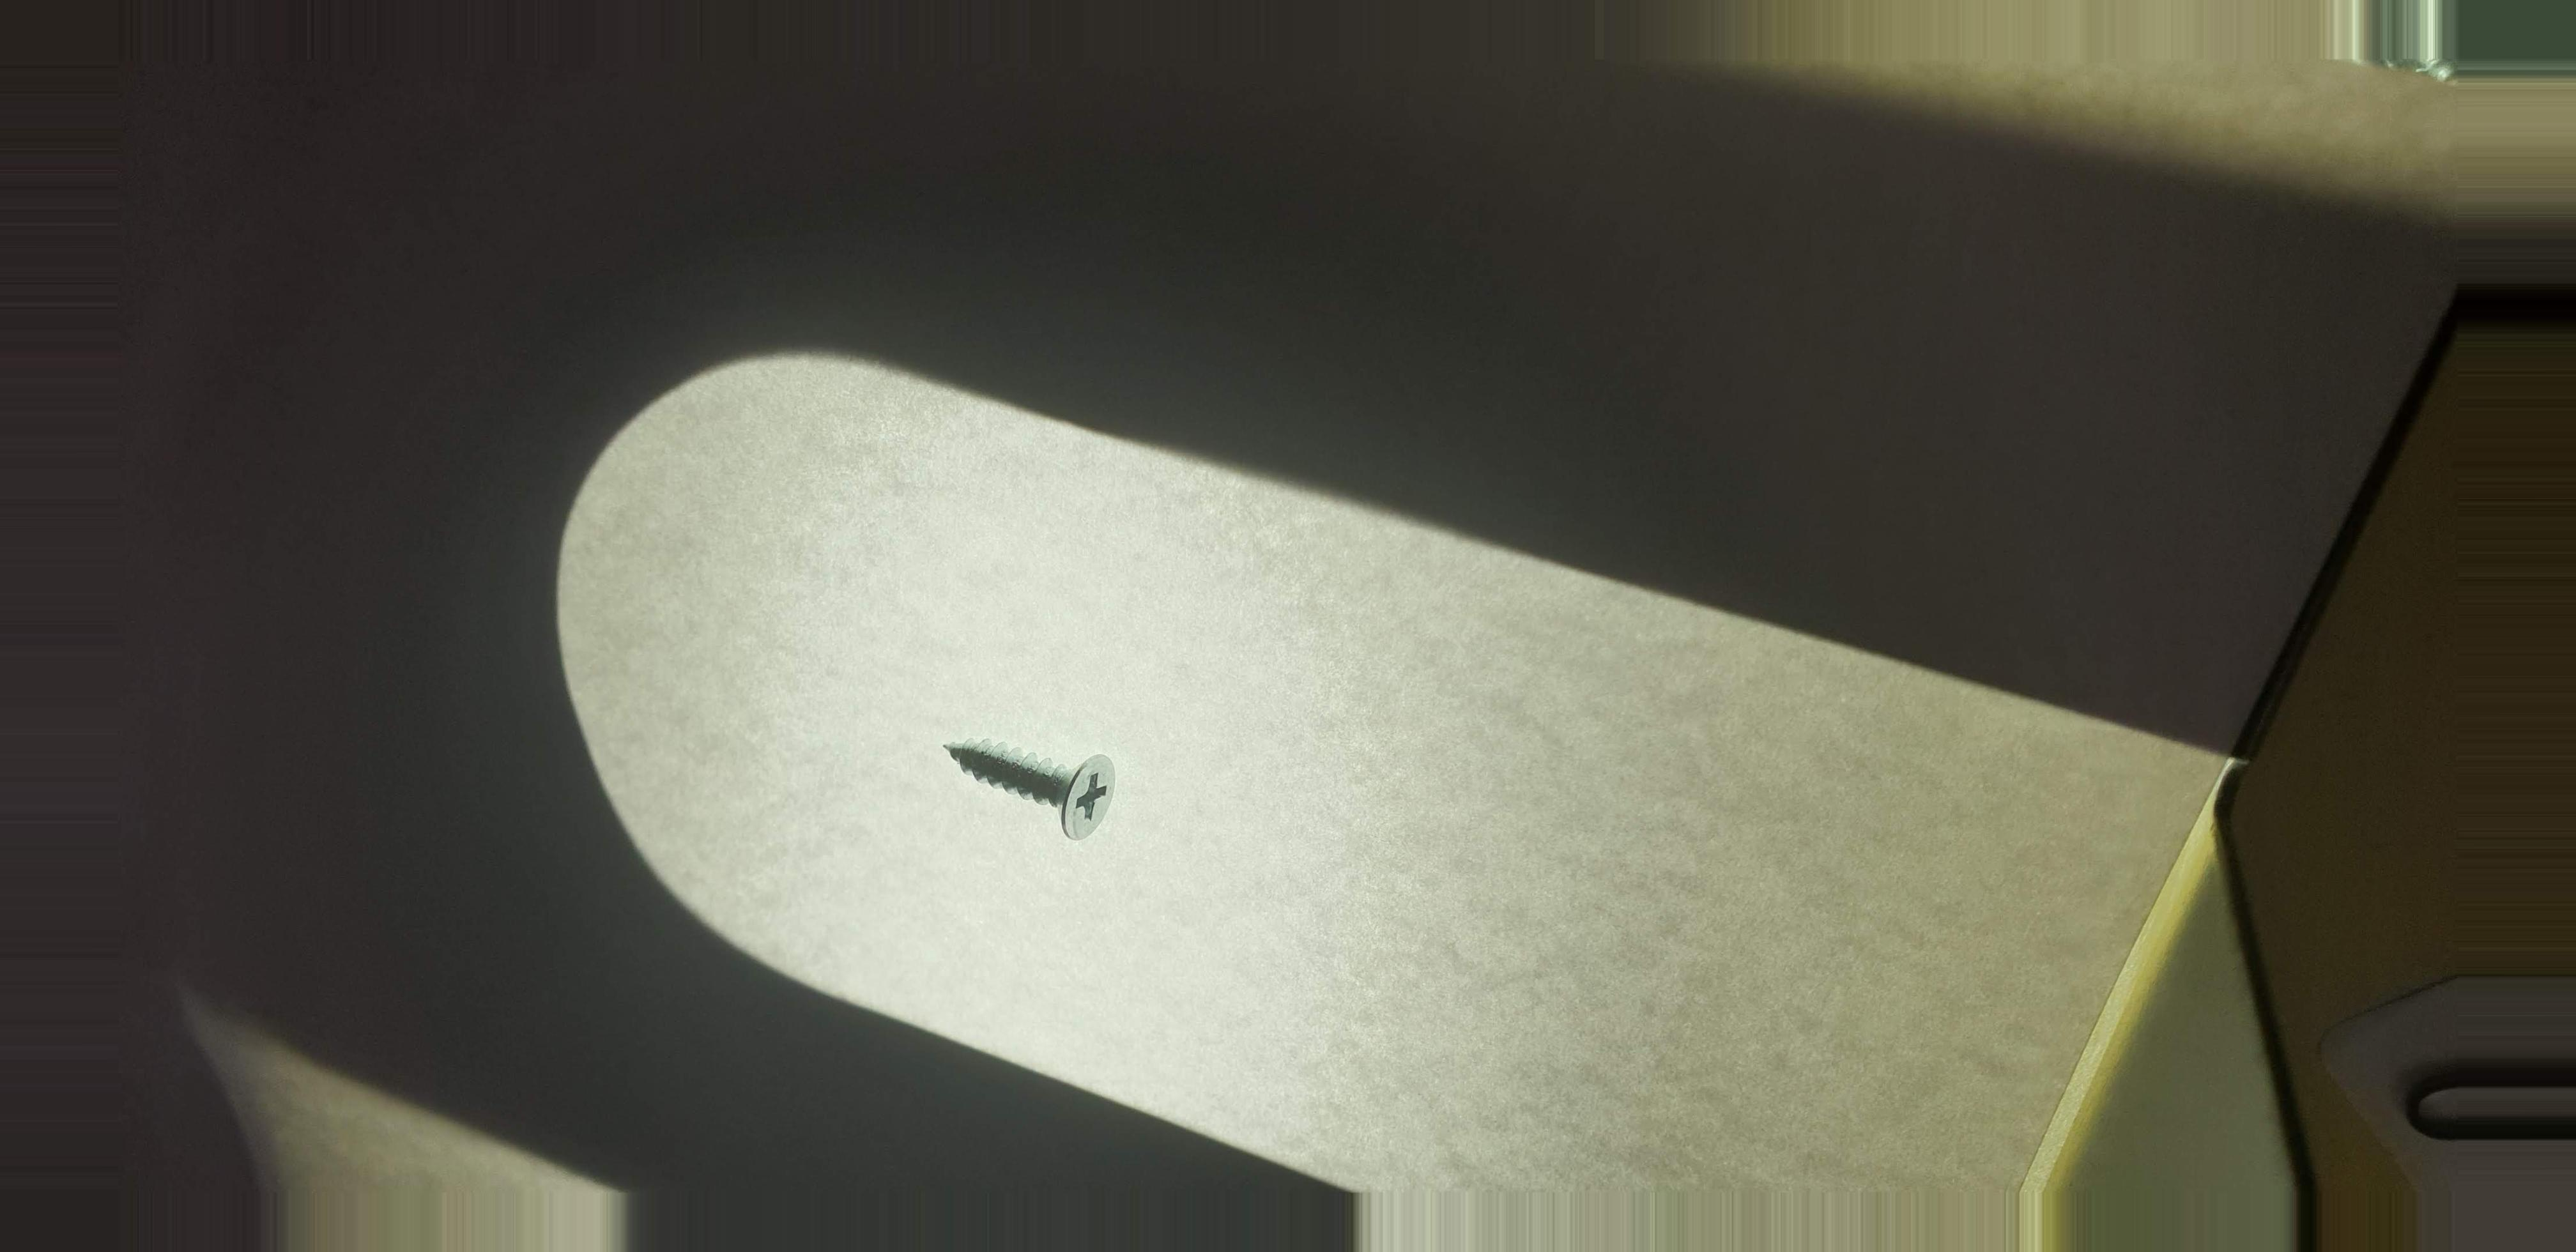S003: (918, 695, 1147, 871)
